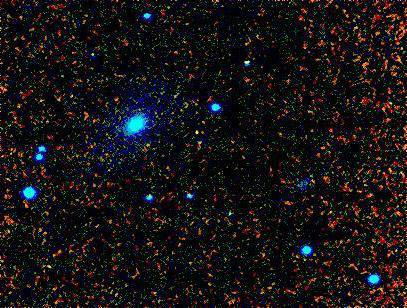star: (180, 114, 210, 144)
